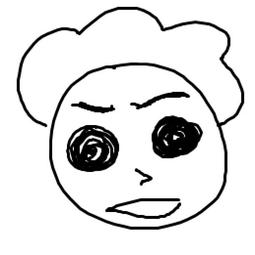eye: (147, 112, 207, 160), (62, 126, 122, 174)
eyebrow: (129, 89, 189, 114), (71, 99, 115, 114)
open_mouth: (98, 195, 184, 222)
pointy_nose: (129, 161, 156, 188)
